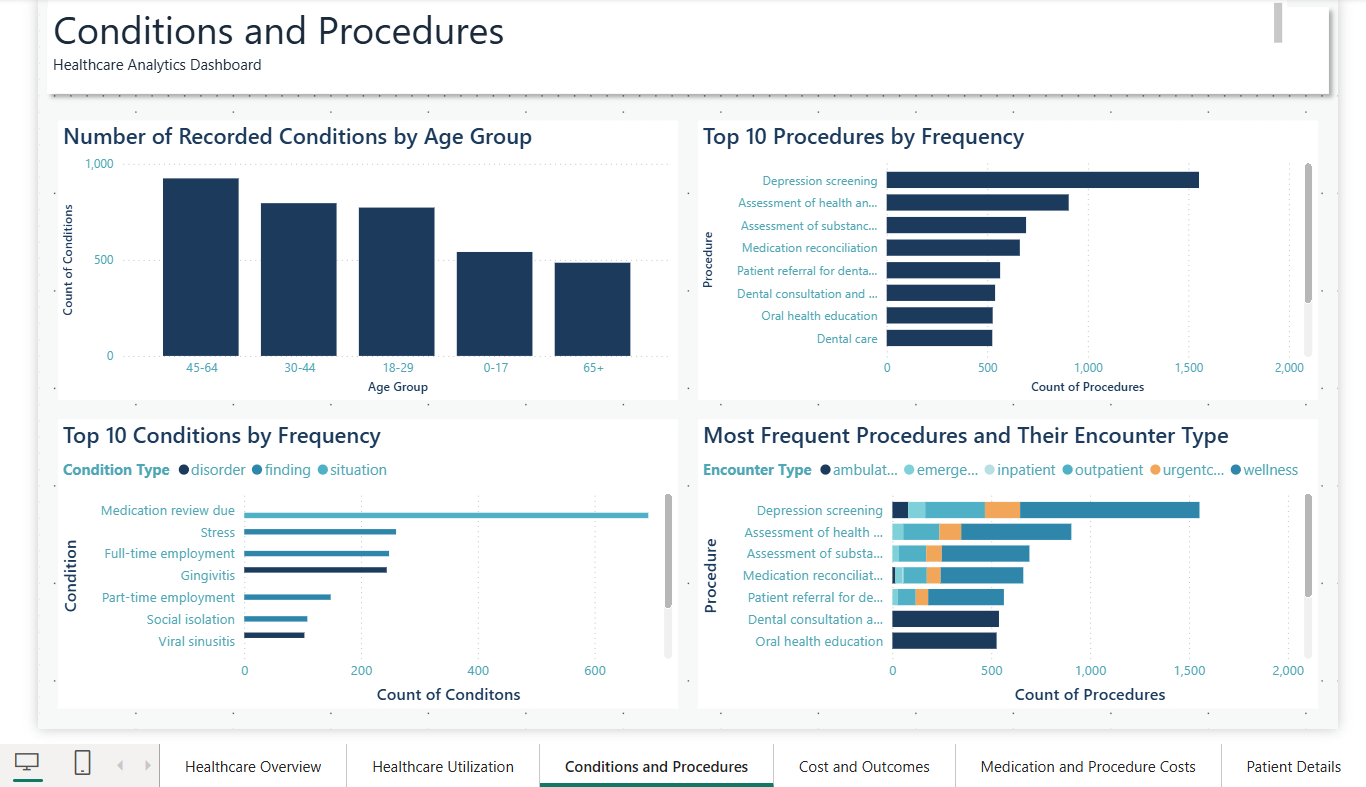

The page's visual inventory and layout, read from the dashboard file:
{"tool":"powerbi","page":{"name":"Conditions and Procedures","canvas":[1280,720],"ordinal":2},"visuals":[{"type":"columnChart","title":"Number of Recorded Conditions by Age Group","fields":{"Category":["Age groups.age_group"],"Y":["CountNonNull(conditions_clean.code)"]},"box":[20,120,610,275],"z":0},{"type":"clusteredBarChart","title":"Top 10 Conditions by Frequency","fields":{"Category":["conditions_clean.condition description"],"Series":["conditions_clean.condition type"],"Y":["CountNonNull(conditions_clean.code)"]},"box":[20,415,610,285],"z":1000},{"type":"barChart","title":"Most Frequent Procedures and Their Encounter Type","fields":{"Category":["procedures_clean.description"],"Y":["CountNonNull(procedures_clean.description)"],"Series":["encounters_clean.encounterclass"]},"box":[650,415,610,285],"z":2000},{"type":"shape","box":[0,0,1280,103.3],"z":2500},{"type":"clusteredBarChart","title":"Top 10 Procedures by Frequency","fields":{"Category":["procedures_clean.description"],"Y":["CountNonNull(procedures_clean.description)"]},"box":[650,120,610,275],"z":3000},{"type":"textbox","box":[10,0,1220,54.1],"z":6000},{"type":"textbox","box":[10,50,391,32],"z":8000}]}

Visuals, with their boxes on the page's 1280x720 design canvas (x1, y1, x2, y2). These are canvas units, not pixel positions in the 1366x787 screenshot, which may show the page scaled, cropped or inside an application window:
"Number of Recorded Conditions by Age Group" columnChart: Rect(20, 120, 630, 395)
"Top 10 Conditions by Frequency" clusteredBarChart: Rect(20, 415, 630, 700)
"Most Frequent Procedures and Their Encounter Type" barChart: Rect(650, 415, 1260, 700)
shape: Rect(0, 0, 1280, 103)
"Top 10 Procedures by Frequency" clusteredBarChart: Rect(650, 120, 1260, 395)
textbox: Rect(10, 0, 1230, 54)
textbox: Rect(10, 50, 401, 82)
